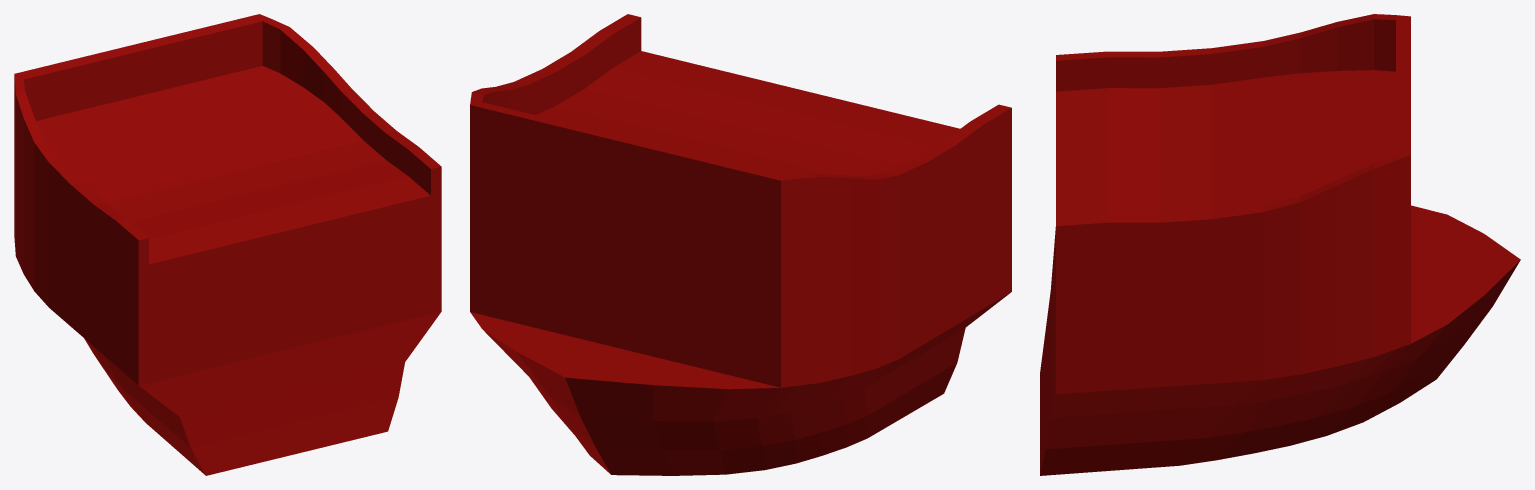
The model's file is Proa_Model.fbx.
The picture shows the model from 3 angles, left to right: view 1: azimuth 30°, elevation 25°; view 2: azimuth 150°, elevation 25°; view 3: azimuth 270°, elevation 25°; orthographic projection. The views are drawn at different scales.
Visible parts, largest first — view 1: Proa; view 2: Proa; view 3: Proa.
Boxes of the visible parts, x1,y1,x2,y2 form: Proa: [14, 14, 441, 475]; Proa: [470, 14, 1011, 475]; Proa: [1040, 14, 1520, 475].
Size of the model in its own units: 210 by 194 by 250.
